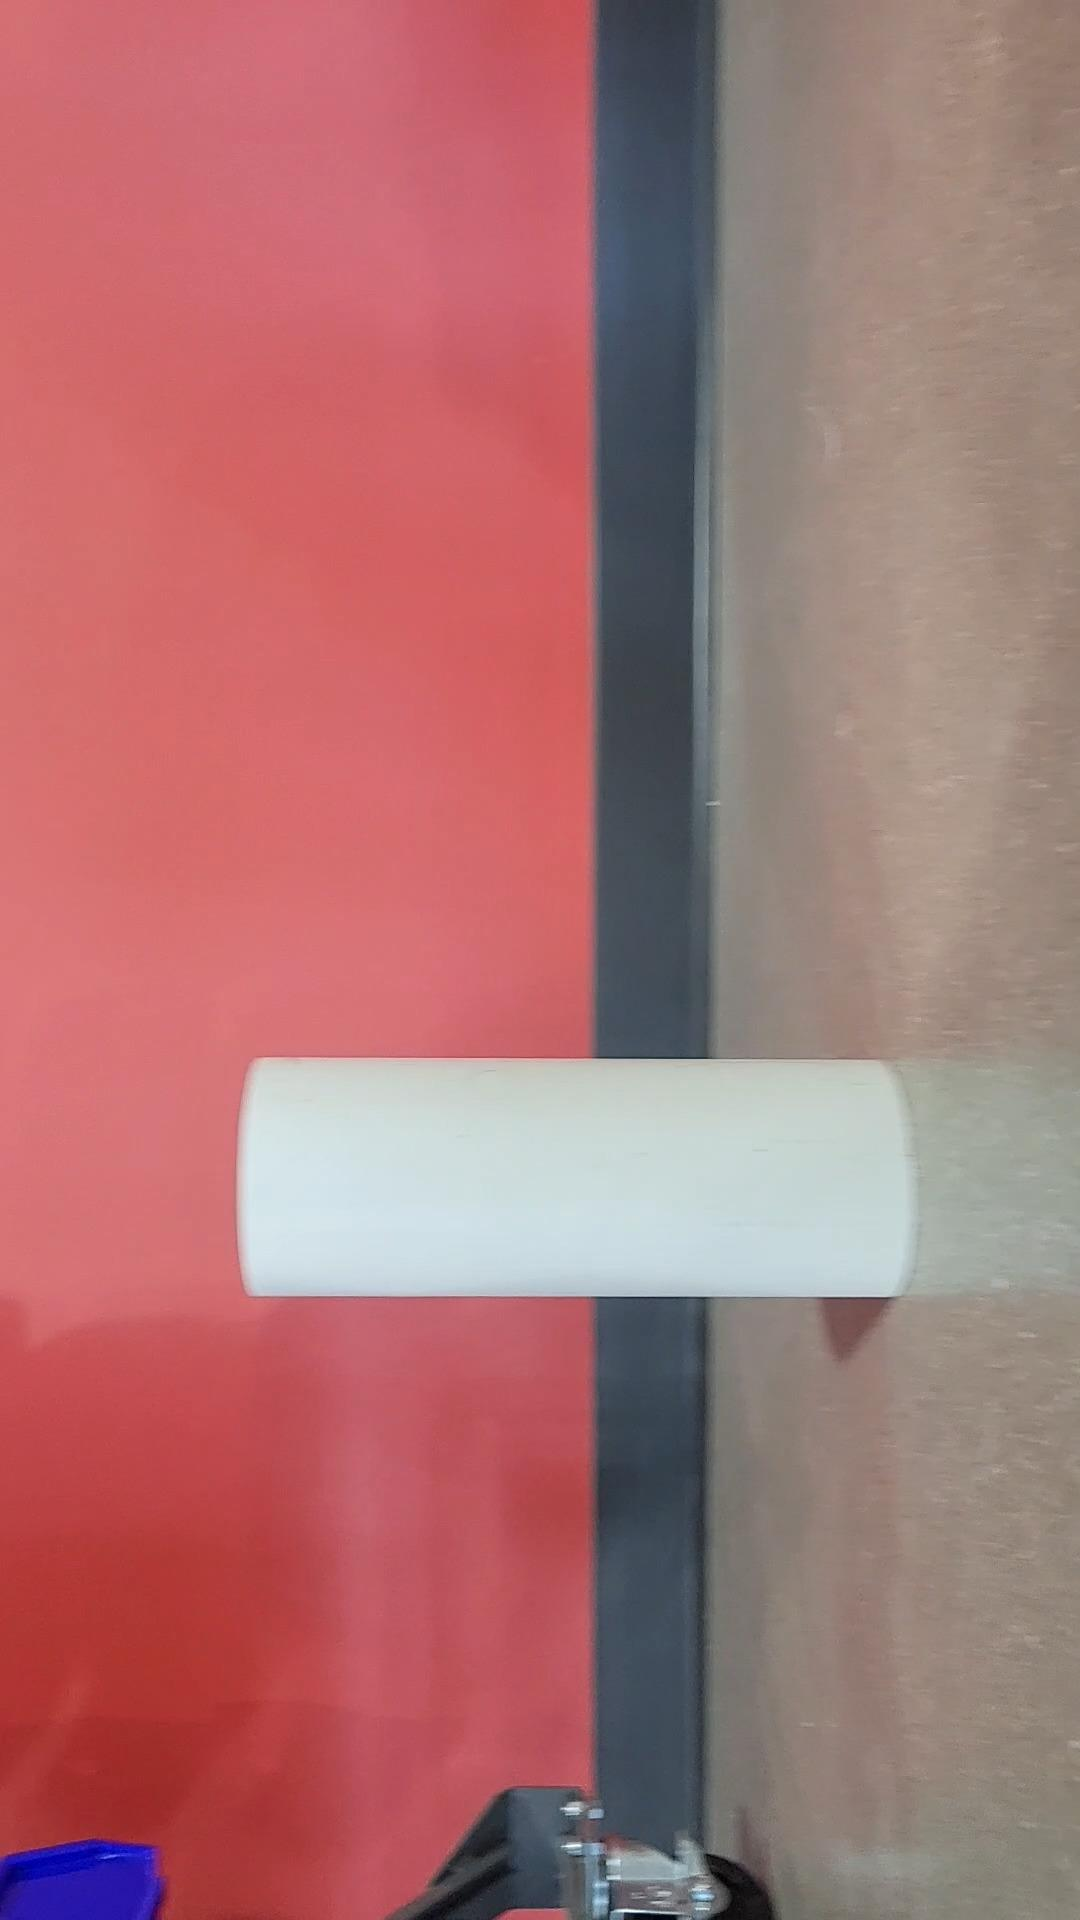coral: (243, 1058, 918, 1308)
